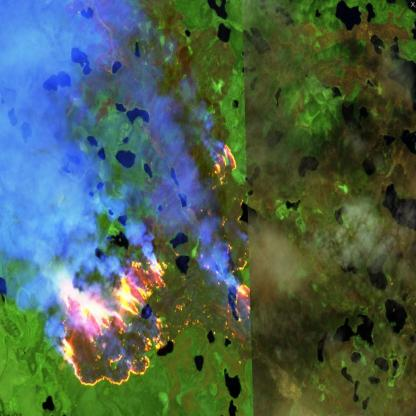fire: (54, 248, 172, 388), (216, 254, 253, 343), (199, 128, 243, 195)
